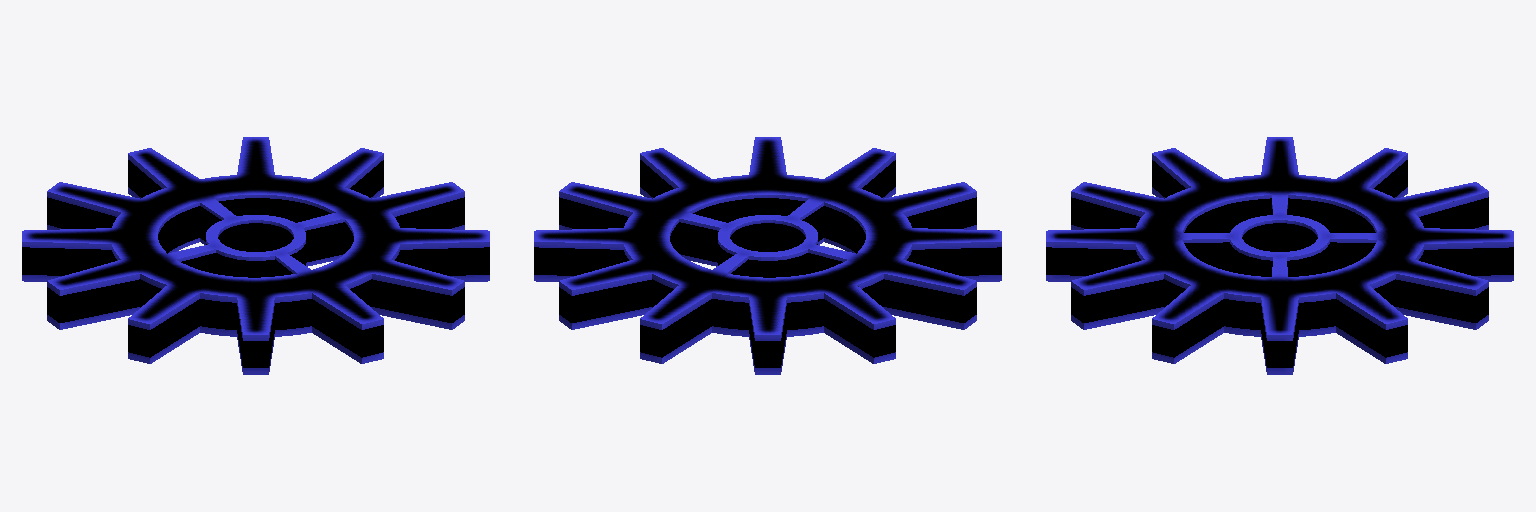
3 renders of one model, left to right at view 1: azimuth 30°, elevation 25°; view 2: azimuth 150°, elevation 25°; view 3: azimuth 270°, elevation 25°, orthographic.
Parts seen in each view (by area): view 1: cog-vr-blue; view 2: cog-vr-blue; view 3: cog-vr-blue.
Part boxes in pixels (left/top/right/bottom): cog-vr-blue: left=22, top=137, right=489, bottom=374; cog-vr-blue: left=534, top=137, right=1001, bottom=374; cog-vr-blue: left=1046, top=137, right=1513, bottom=374.
Size of the model in its own units: 2 by 0.1875 by 2.
1 materials, 1 textured.